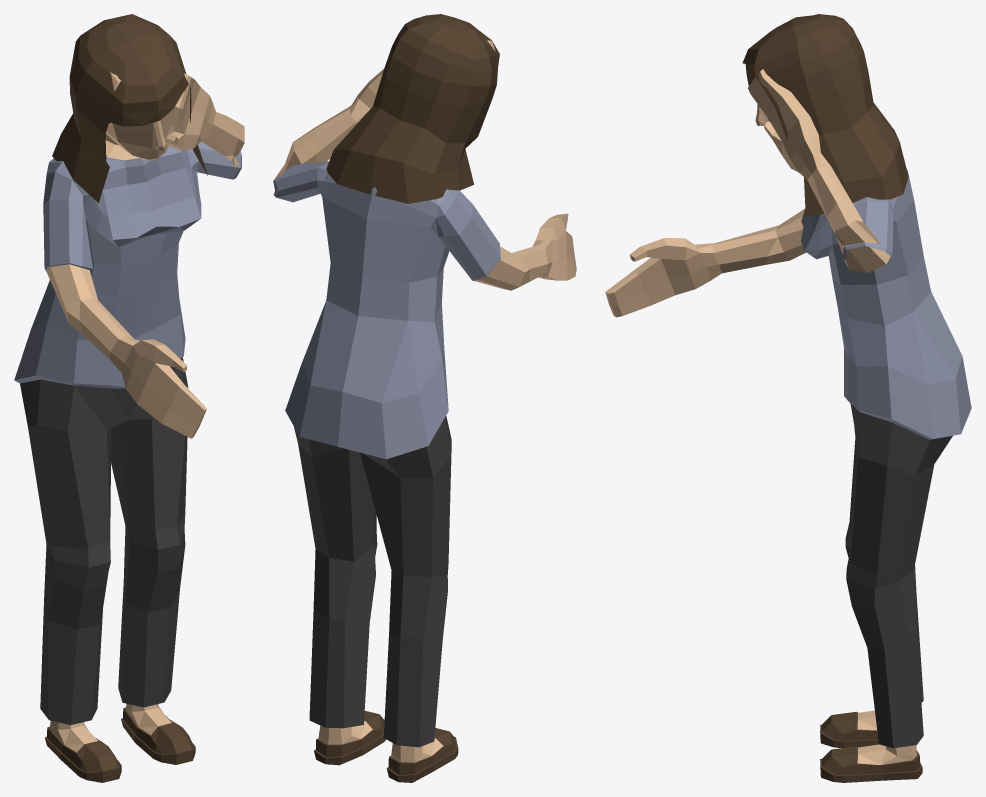
File: Female_DJ_LeftEar.glb
3 views of the same model, side by side, from view 1: azimuth 30°, elevation 25°; view 2: azimuth 150°, elevation 25°; view 3: azimuth 270°, elevation 25° (orthographic). The views are drawn at different scales.
Parts seen in each view (by area): view 1: Female_DJ_LeftEar; view 2: Female_DJ_LeftEar; view 3: Female_DJ_LeftEar.
Part boxes in pixels (left/top/right/bottom): Female_DJ_LeftEar: left=14, top=14, right=244, bottom=782; Female_DJ_LeftEar: left=273, top=14, right=576, bottom=782; Female_DJ_LeftEar: left=605, top=14, right=971, bottom=782.
Size of the model in its own units: 0.4894 by 1.66 by 0.7593.
